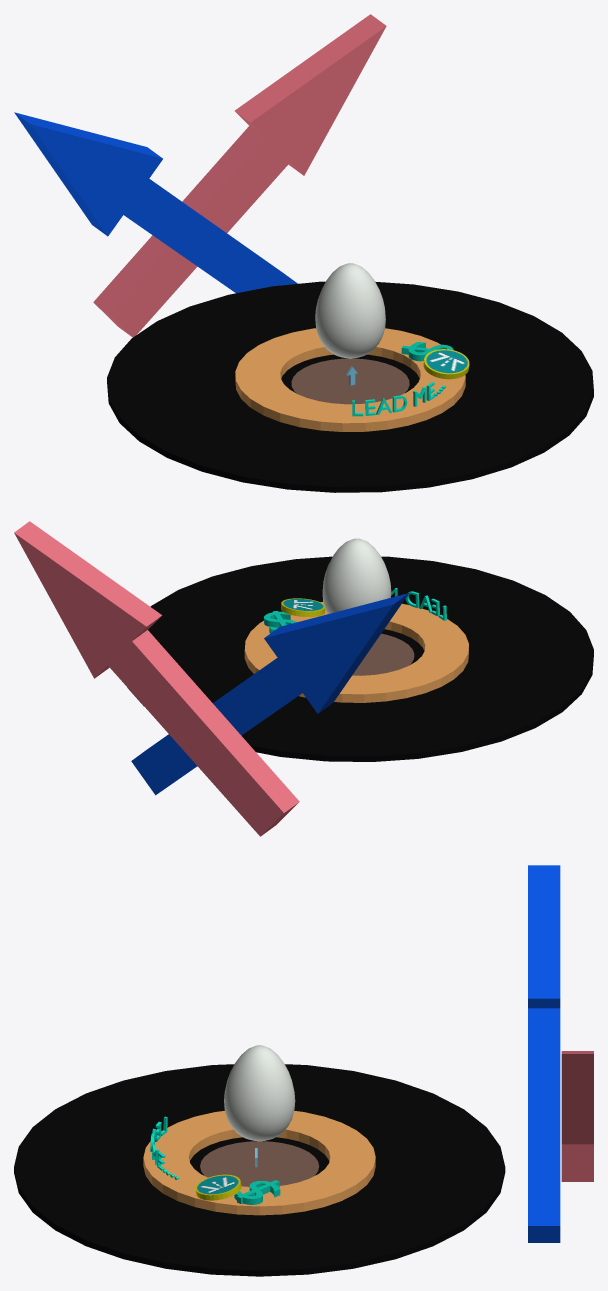
Rendered from Work.glb.
3 views of the same model, one above another, from view 1: azimuth 30°, elevation 25°; view 2: azimuth 150°, elevation 25°; view 3: azimuth 270°, elevation 25° (orthographic). The views are drawn at different scales.
Parts seen in each view (by area): view 1: Circle, BG1, BG2, Ring, Egg, Level, 717, Lead; view 2: Circle, BG1, BG2, Ring, Egg, Level, 717, Lead, Dollar; view 3: Circle, BG2, Ring, Egg, BG1, Level, 717, Dollar, Lead.
Boxes of the visible parts, box(x1,y1,x2,y2) form: Circle: box(107, 281, 593, 492); BG1: box(93, 14, 386, 337); BG2: box(14, 112, 297, 293); Ring: box(235, 328, 465, 431); Egg: box(315, 263, 385, 358); Level: box(291, 358, 409, 404); 717: box(423, 349, 469, 379); Lead: box(352, 382, 445, 416); Circle: box(128, 556, 593, 761); BG1: box(14, 521, 299, 836); BG2: box(131, 593, 408, 795); Ring: box(244, 602, 468, 702); Egg: box(322, 538, 391, 613); Level: box(352, 633, 414, 675); 717: box(281, 598, 325, 616); Lead: box(391, 588, 446, 620); Dollar: box(264, 610, 296, 633); Circle: box(14, 1064, 505, 1276); BG2: box(528, 865, 560, 1242); Ring: box(143, 1110, 375, 1215); Egg: box(224, 1045, 295, 1141); BG1: box(561, 1051, 593, 1181); Level: box(200, 1141, 319, 1186); 717: box(195, 1174, 241, 1200); Dollar: box(234, 1180, 280, 1204); Lead: box(150, 1116, 179, 1179).
Bounding box in the file's own units: 17.3 × 10.01 × 20.43.
Materials: 10 (1 with a texture image).
